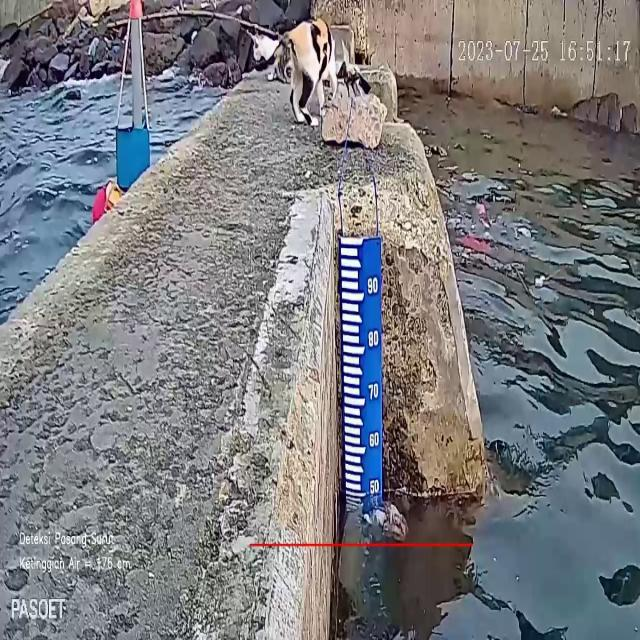water-meter: (334, 221, 392, 525)
